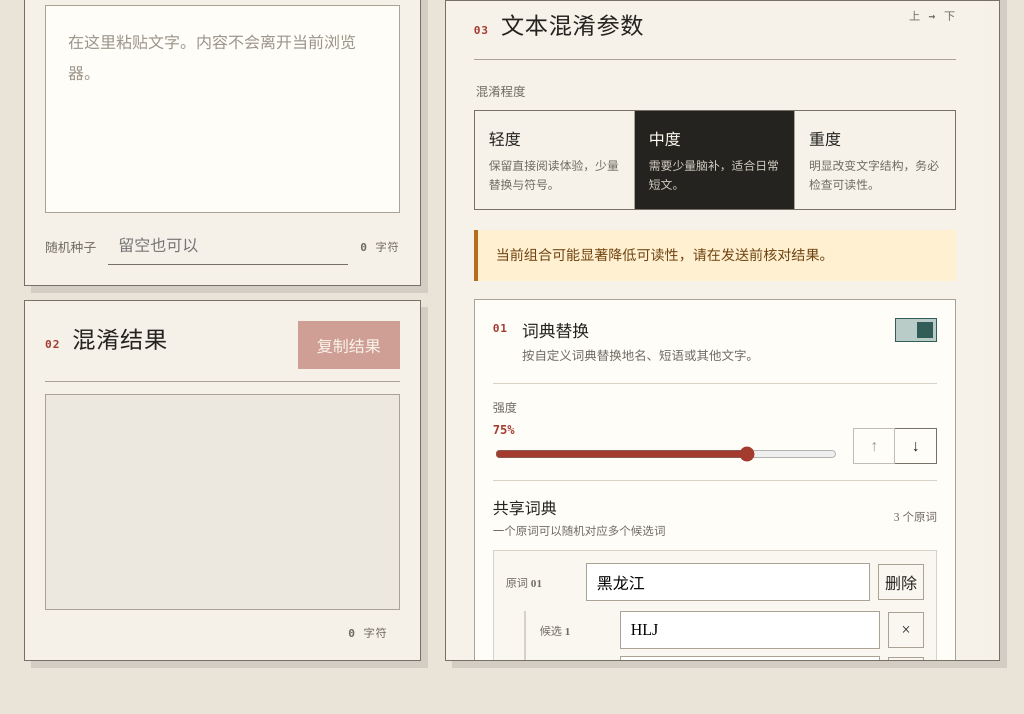
Test case: App text workflow › allows modules to be disabled and moved
(page scrolled)
Click the checkbox named "启用词典替换" at (916, 330), box [895,318,937,342]
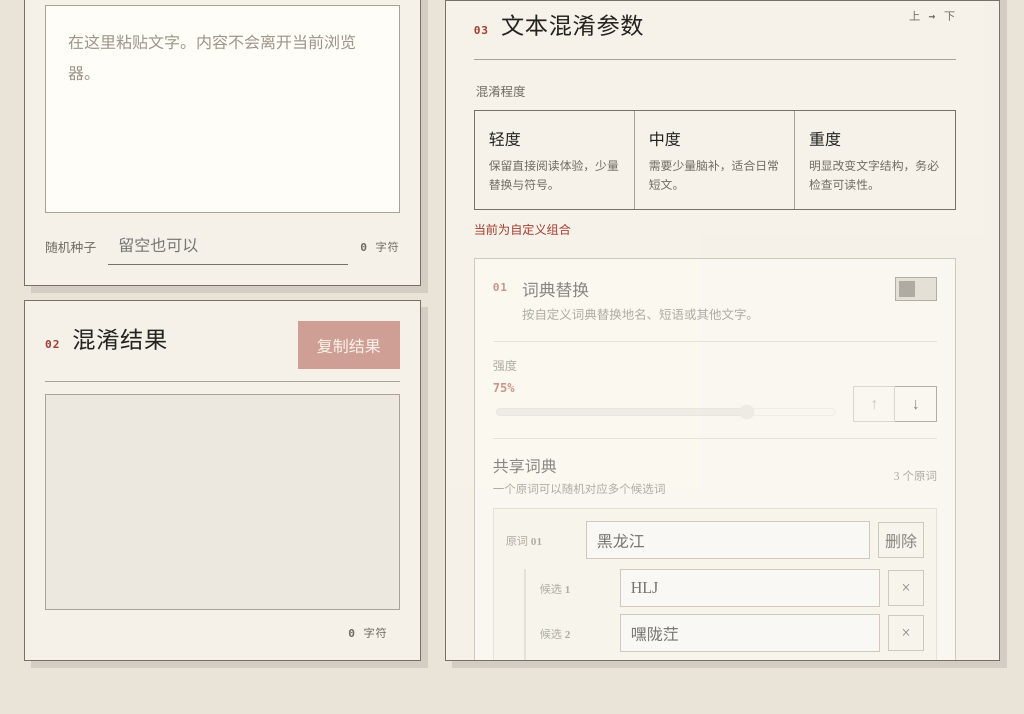
expect the checkbox named "启用词典替换" is not checked: met, box [895,277,937,301]
Click the button named "词典替换下移" at (916, 404), box [895,386,937,422]
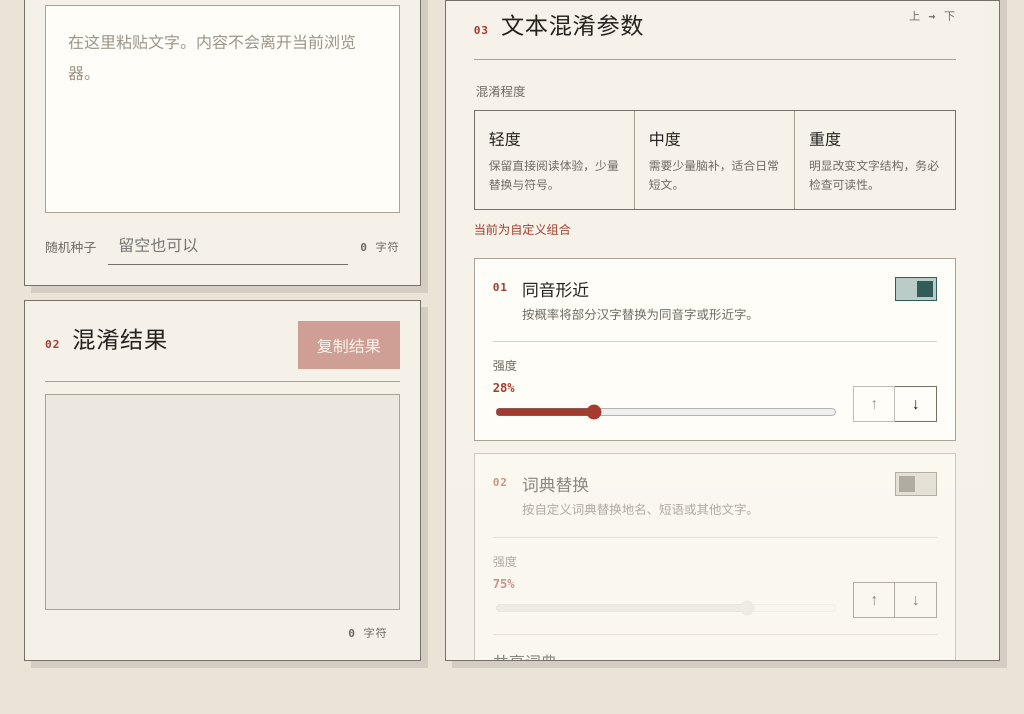
expect the heading "同音形近" is shown: met, box [522,281,589,300]
